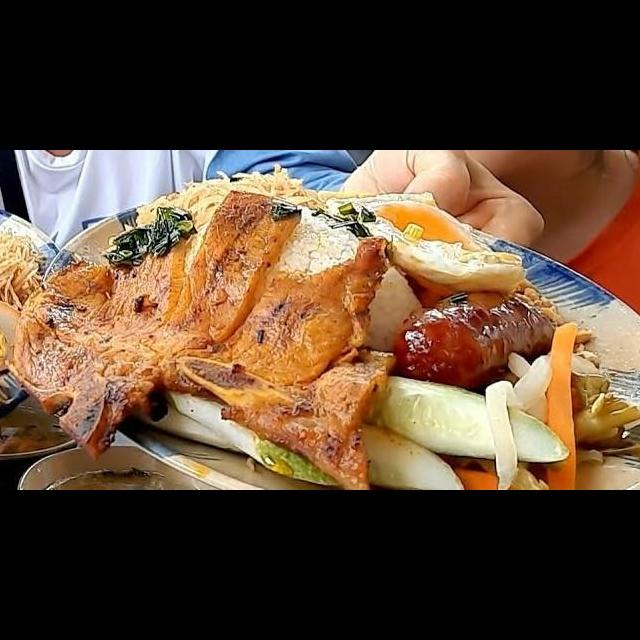bi: (95, 160, 368, 259)
com: (268, 197, 366, 285), (350, 259, 428, 358)
com suon bi trung: (23, 175, 640, 490)
dua chua: (478, 318, 640, 490)
suon: (0, 187, 401, 490)
trung: (318, 188, 530, 302)
